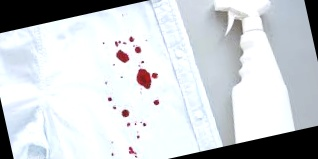blood: (126, 118, 151, 141), (134, 67, 154, 93), (114, 48, 130, 65), (114, 36, 135, 47), (127, 146, 137, 159), (121, 109, 129, 118), (152, 98, 160, 106), (135, 46, 142, 53), (106, 97, 113, 103), (111, 106, 119, 111)
